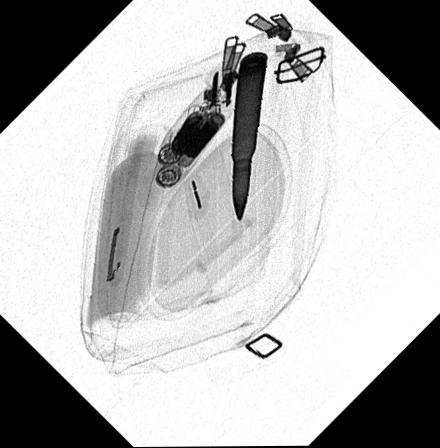Bullet: (230, 50, 268, 224)
